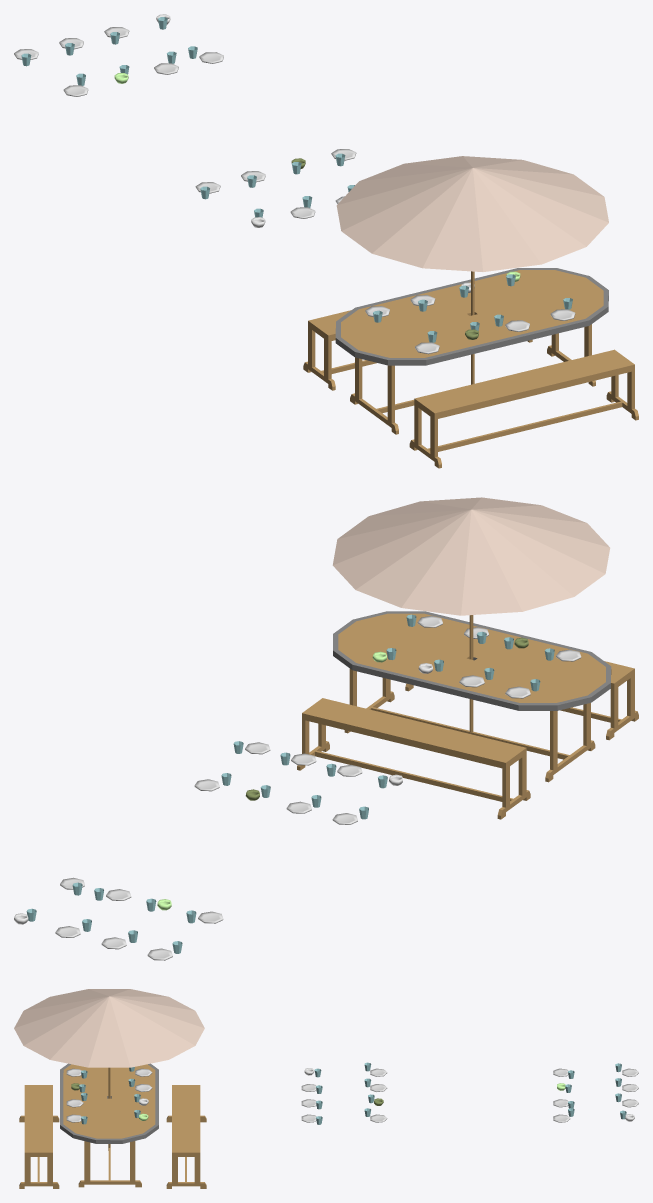
File: IllumRooftopTablesAndSetting.fbx
The picture shows the model from 3 angles, top to bottom: view 1: azimuth 30°, elevation 25°; view 2: azimuth 150°, elevation 25°; view 3: azimuth 270°, elevation 25°; orthographic projection. The views are drawn at different scales.
Parts seen in each view (by area): view 1: Cylinder.216, Cylinder.218, Cylinder.245, Cylinder.219; view 2: Cylinder.216, Cylinder.219, Cylinder.245, Cylinder.218; view 3: Cylinder.216, Cylinder.245, Cylinder.218, Cylinder.219.
Part boxes in pixels (left/top/right/bottom): Cylinder.216: left=335, top=156, right=608, bottom=434; Cylinder.218: left=409, top=349, right=638, bottom=468; Cylinder.245: left=14, top=14, right=575, bottom=354; Cylinder.219: left=303, top=310, right=532, bottom=390; Cylinder.216: left=332, top=497, right=611, bottom=782; Cylinder.219: left=297, top=698, right=530, bottom=819; Cylinder.245: left=14, top=614, right=581, bottom=960; Cylinder.218: left=405, top=661, right=638, bottom=740; Cylinder.216: left=14, top=989, right=204, bottom=1187; Cylinder.245: left=66, top=1062, right=638, bottom=1124; Cylinder.218: left=19, top=1085, right=59, bottom=1188; Cylinder.219: left=166, top=1085, right=206, bottom=1188.
Bounding box in the file's own units: 396 × 341 × 1218.
